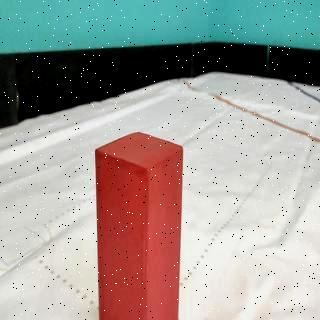redbox: (94, 129, 185, 320)
